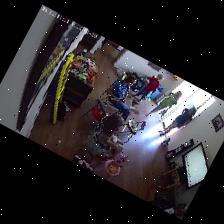person: (105, 75, 138, 119), (96, 114, 122, 159), (159, 107, 195, 136), (132, 74, 162, 102), (146, 92, 180, 116)
